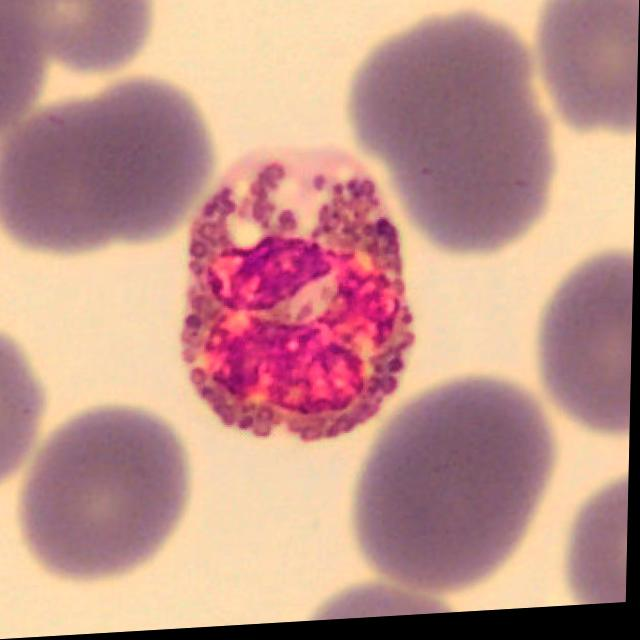Eosinofilo: (181, 148, 418, 449)
